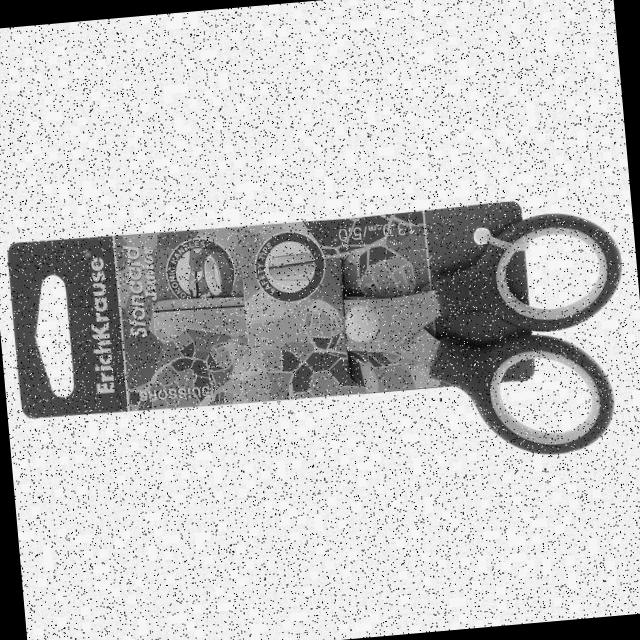scissors: (140, 201, 640, 493)
